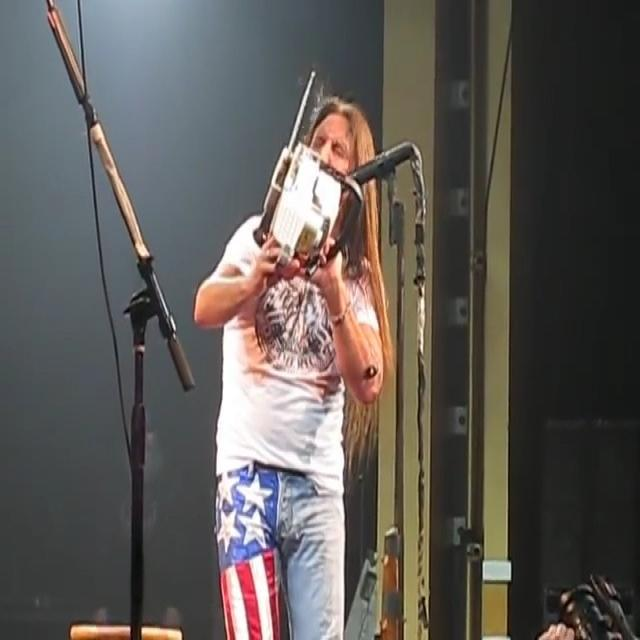Chainsaw: (241, 65, 372, 288)
